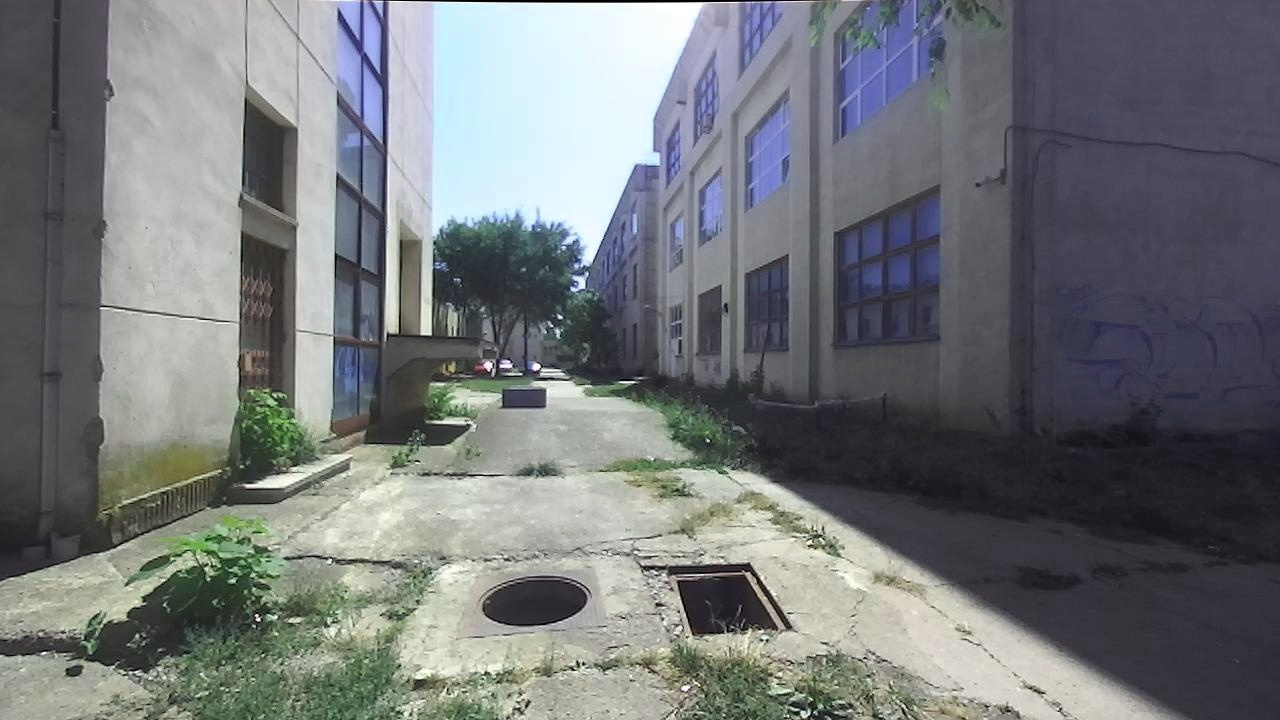drain: (659, 556, 798, 638), (471, 571, 595, 628)
